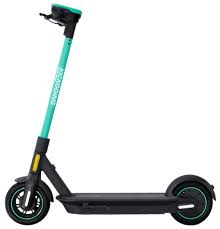kick_board: (6, 3, 216, 224)
kick_body: (67, 192, 164, 214)
kick_handler: (37, 3, 82, 34)
kick_neck: (33, 36, 72, 172)
kick_wheel: (166, 174, 216, 225), (4, 177, 54, 225)
